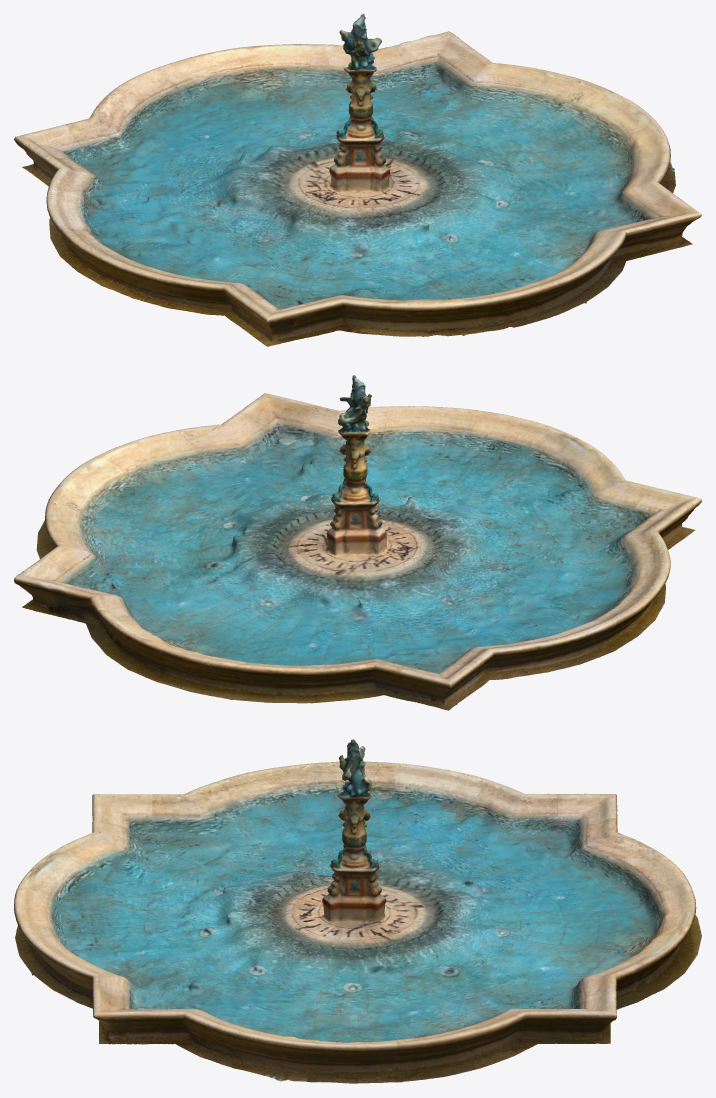
The model's file is water_fountain.glb.
The picture shows the model from 3 angles, top to bottom: view 1: azimuth 30°, elevation 25°; view 2: azimuth 150°, elevation 25°; view 3: azimuth 270°, elevation 25°; orthographic projection. The views are drawn at different scales.
Parts seen in each view (by area): view 1: Mesh_0_Material_0_0 (×2); view 2: Mesh_0_Material_0_0 (×2); view 3: Mesh_0_Material_0_0 (×2).
Part boxes in pixels (x1,y1,x2,y2): Mesh_0_Material_0_0 (×2): [14, 14, 701, 346]; Mesh_0_Material_0_0 (×2): [14, 375, 701, 710]; Mesh_0_Material_0_0 (×2): [14, 739, 701, 1083].
Size of what is drawn, in the model's own units: 8.04 by 2.61 by 8.04.
Materials: 1 (1 with a texture image).
